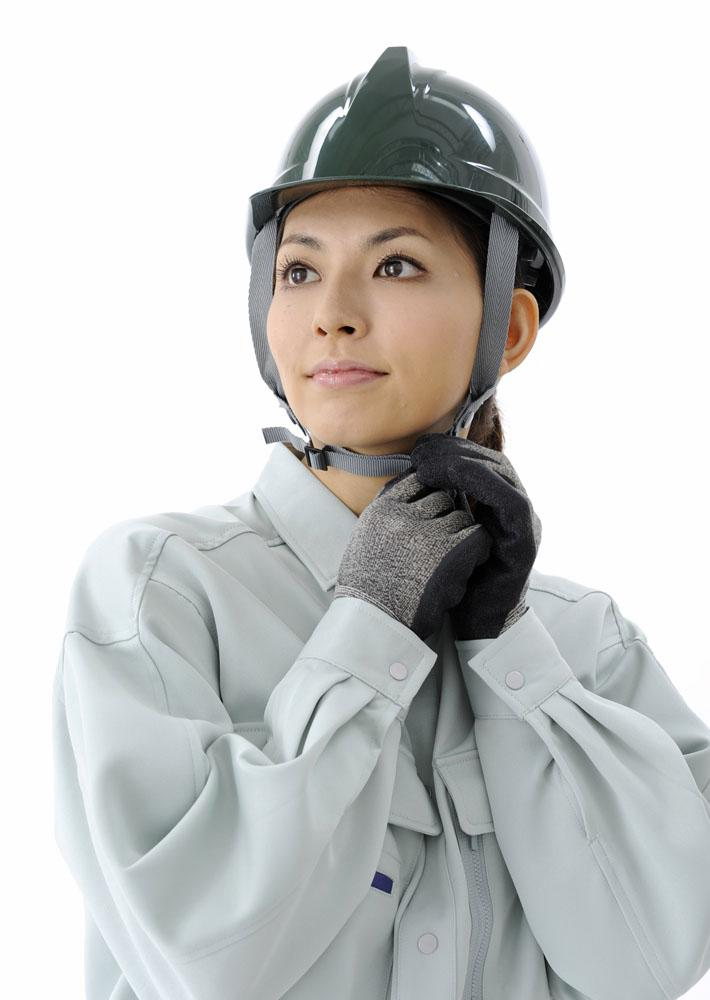helmet: (242, 42, 568, 332)
